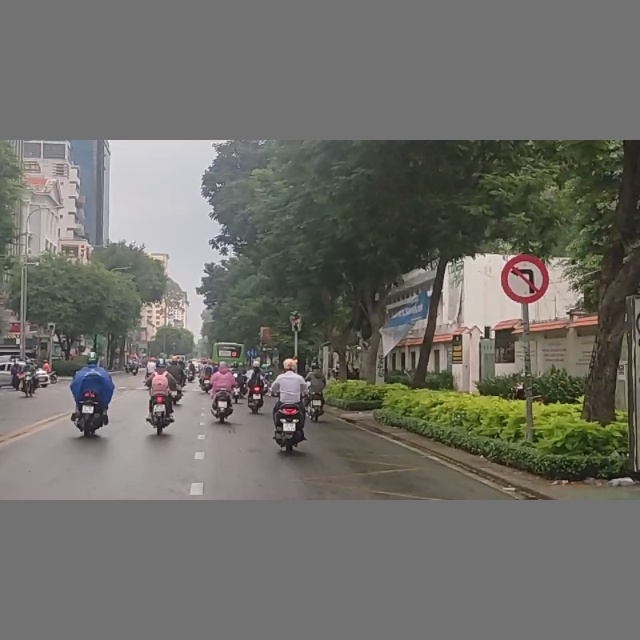P.123a: (501, 256, 551, 303)
